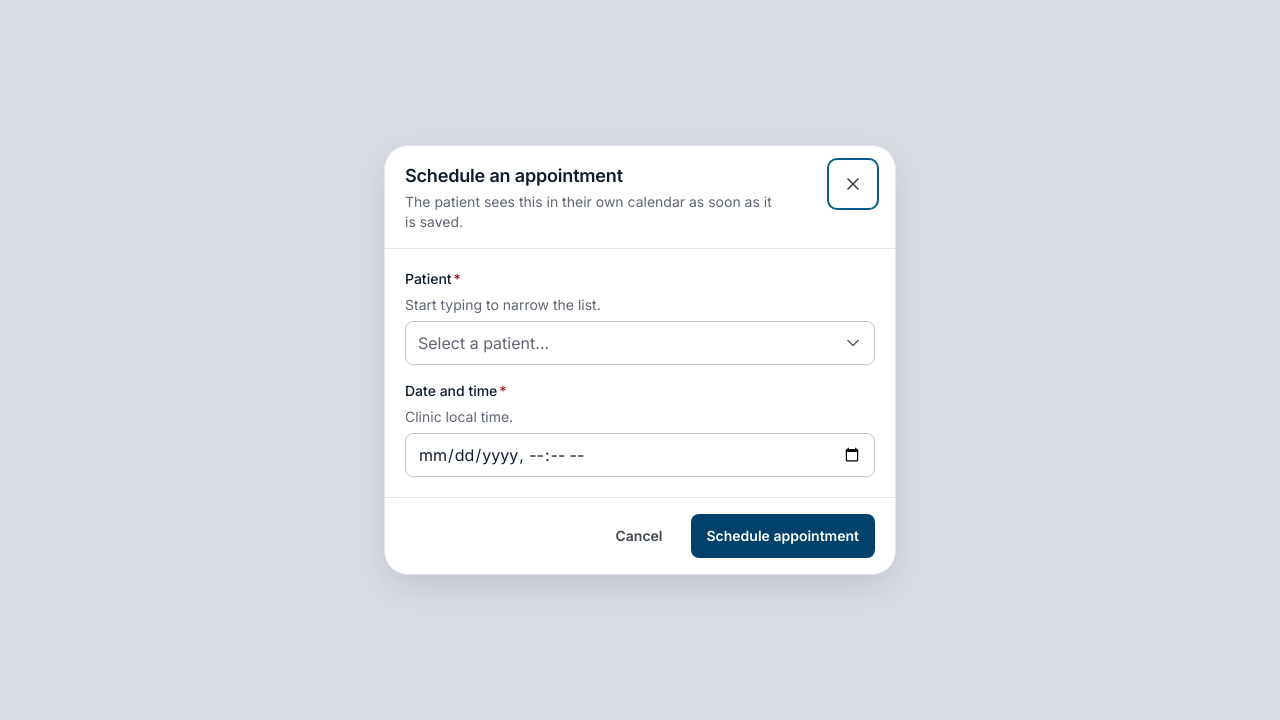
schedule appointment validation › refuses a time in the past
Focus the dropdown at (640, 343), box [405,321,875,365]
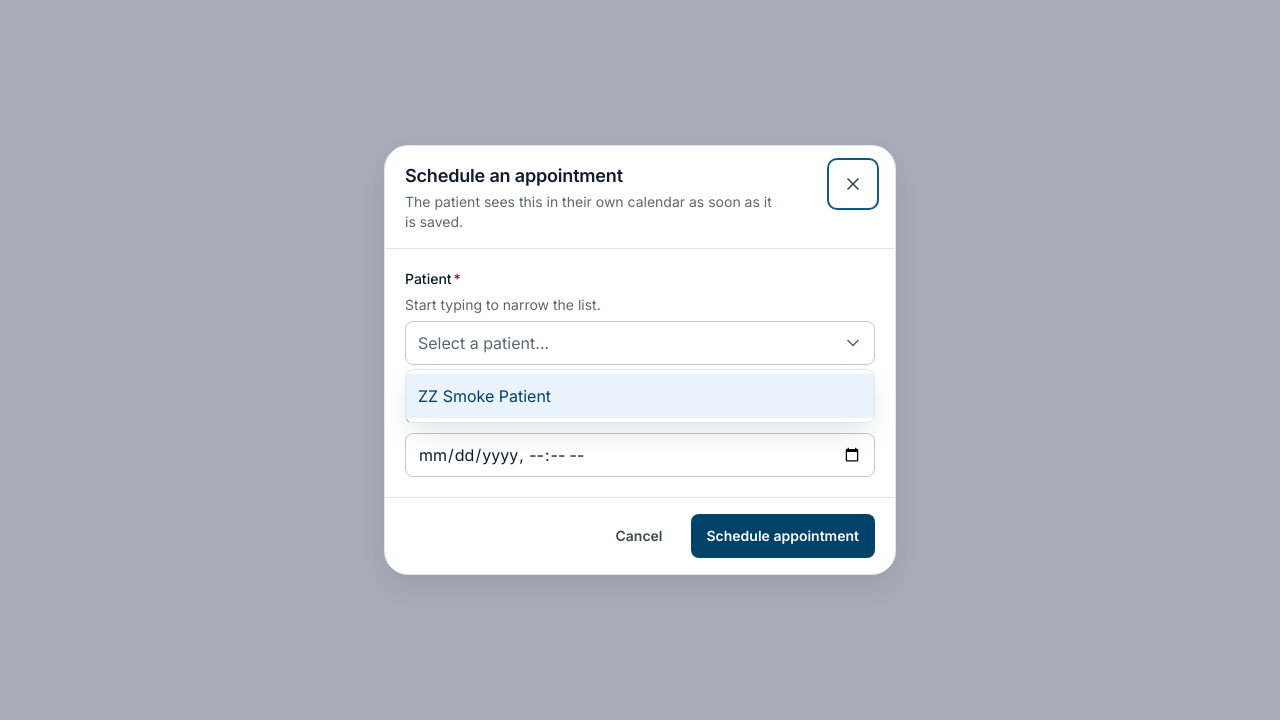
Press the mouse on the option "ZZ Smoke Patient" at (485, 396), box [406,374,874,418]
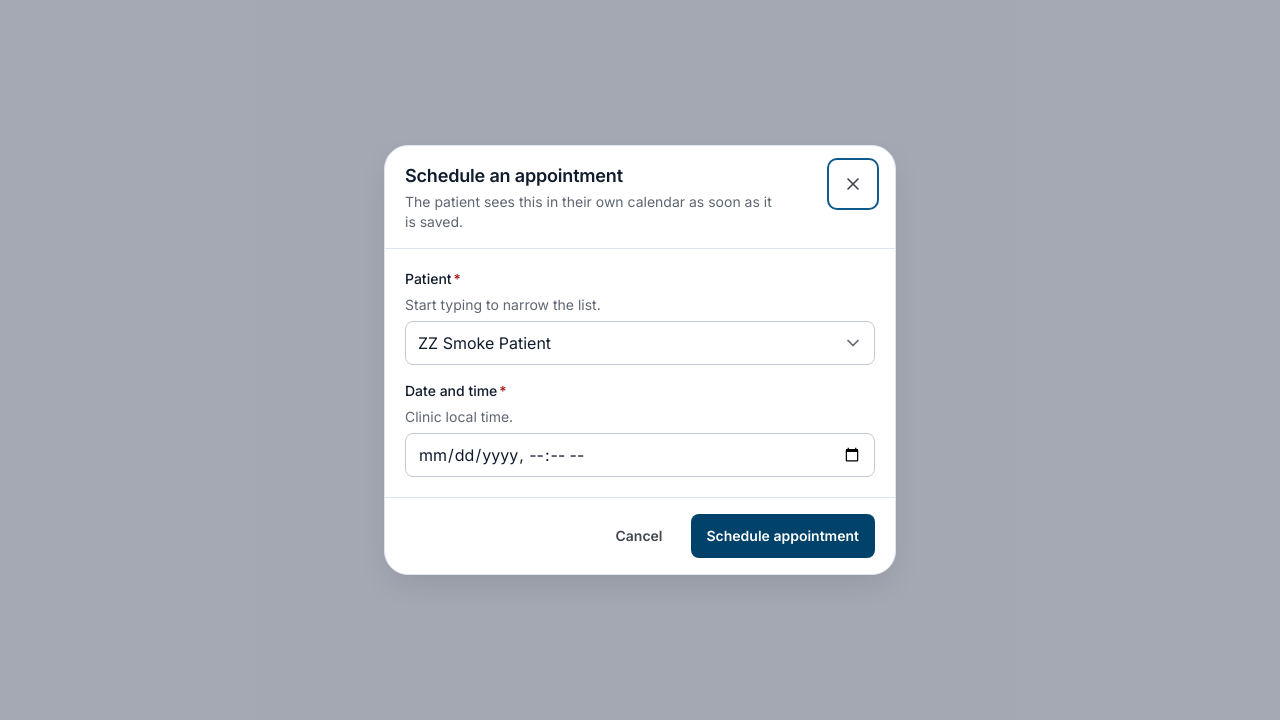
Type "2020-01-01T09:00" into the field labelled "Date and time*".
click(640, 455); type("2020-01-01T09:00")  # box [405,433,875,477]
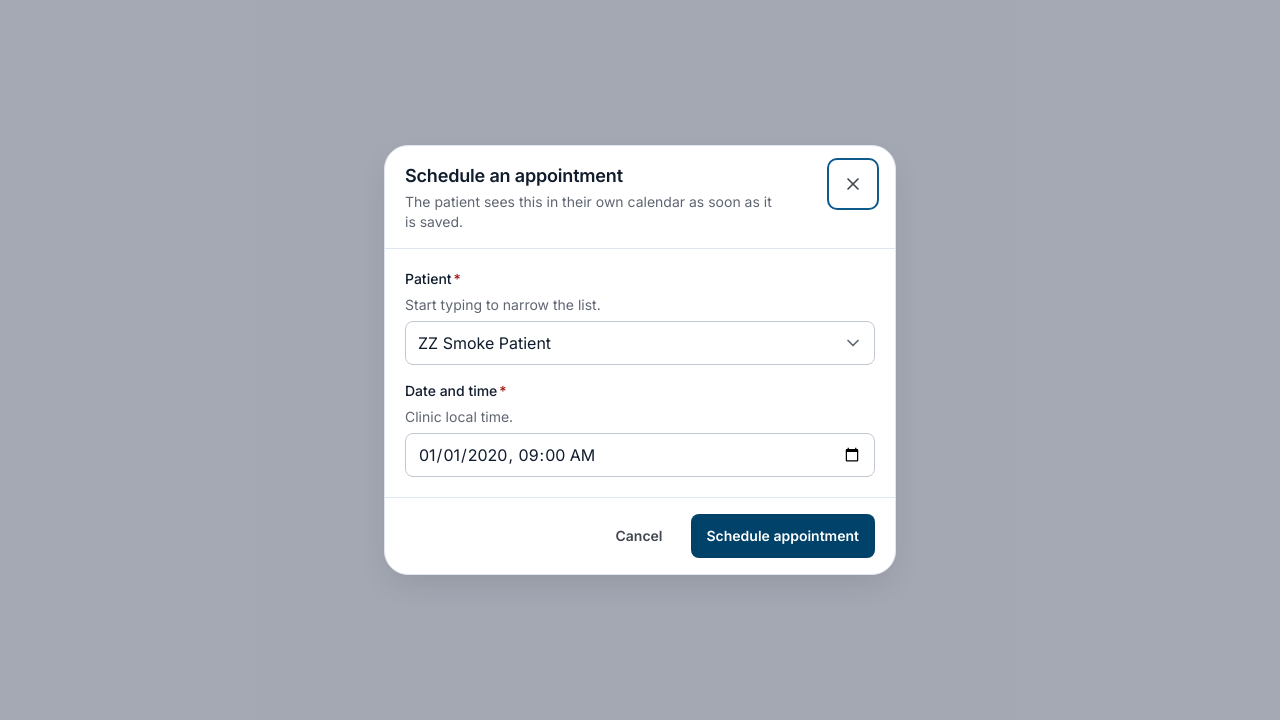
Click the button "Schedule appointment".
click(783, 536)  # box [690,514,875,558]
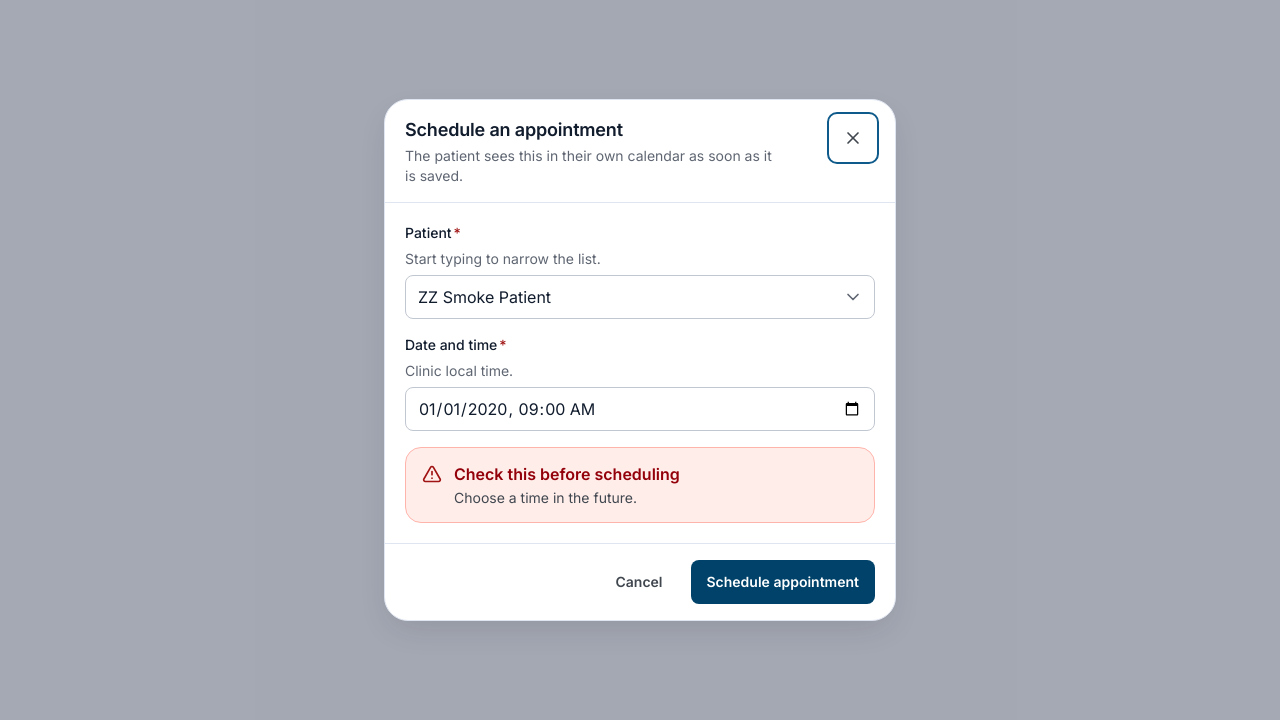
Expected: the text "Choose a time in the future." is shown, [454,489,637,506]
